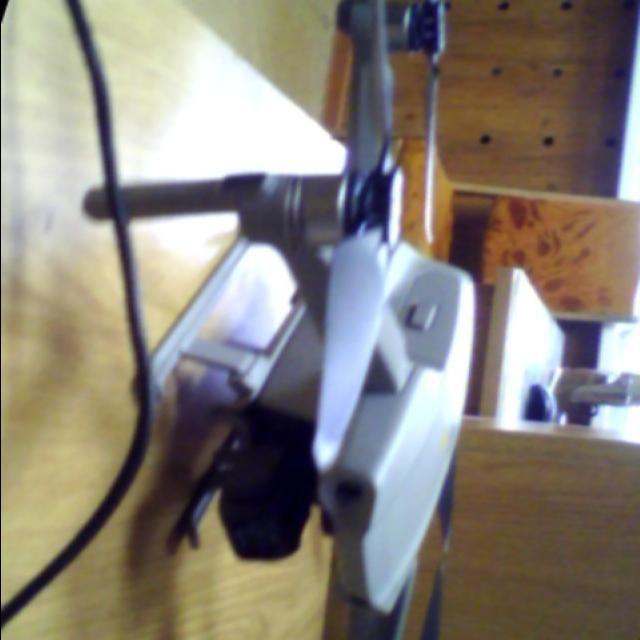drone: (85, 10, 497, 640)
